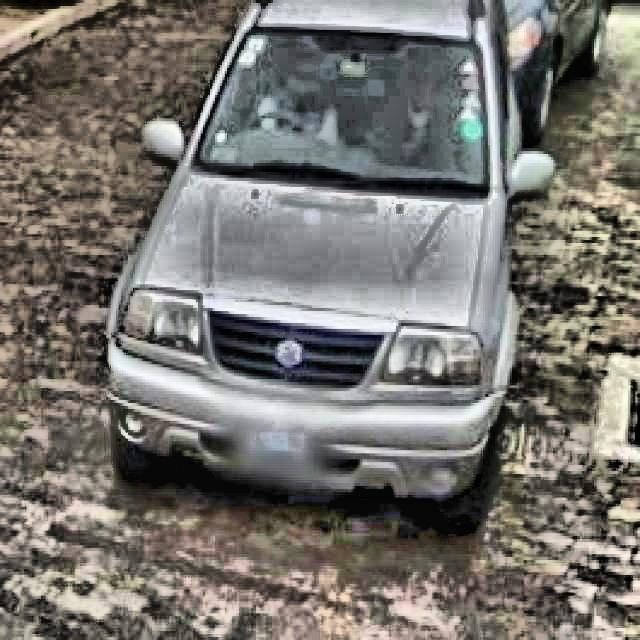carro: (101, 4, 532, 542)
